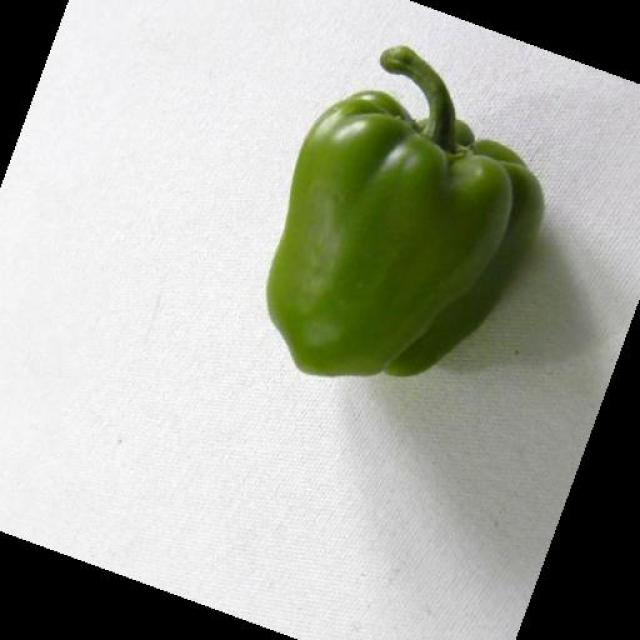Fresh_Capsicum: (286, 33, 527, 410)
